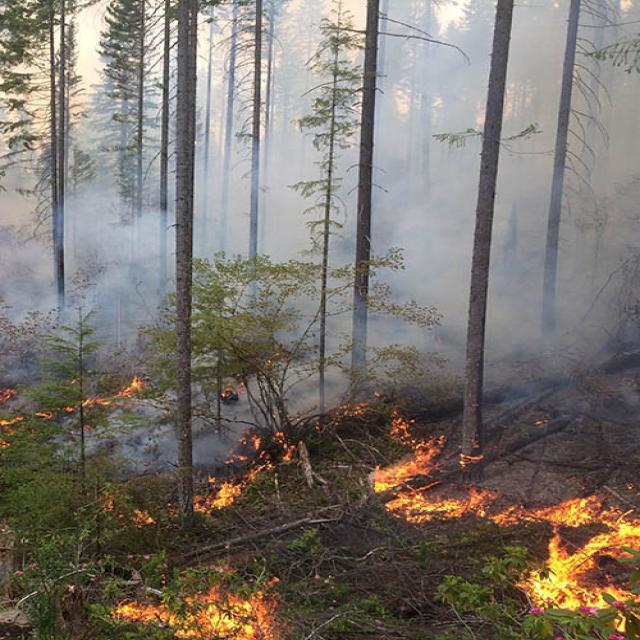Fire: (470, 480, 640, 619), (0, 365, 155, 450), (189, 420, 310, 520), (361, 410, 458, 528), (109, 572, 273, 640), (104, 487, 147, 531), (216, 378, 246, 407)
Smoke: (0, 0, 640, 488)
